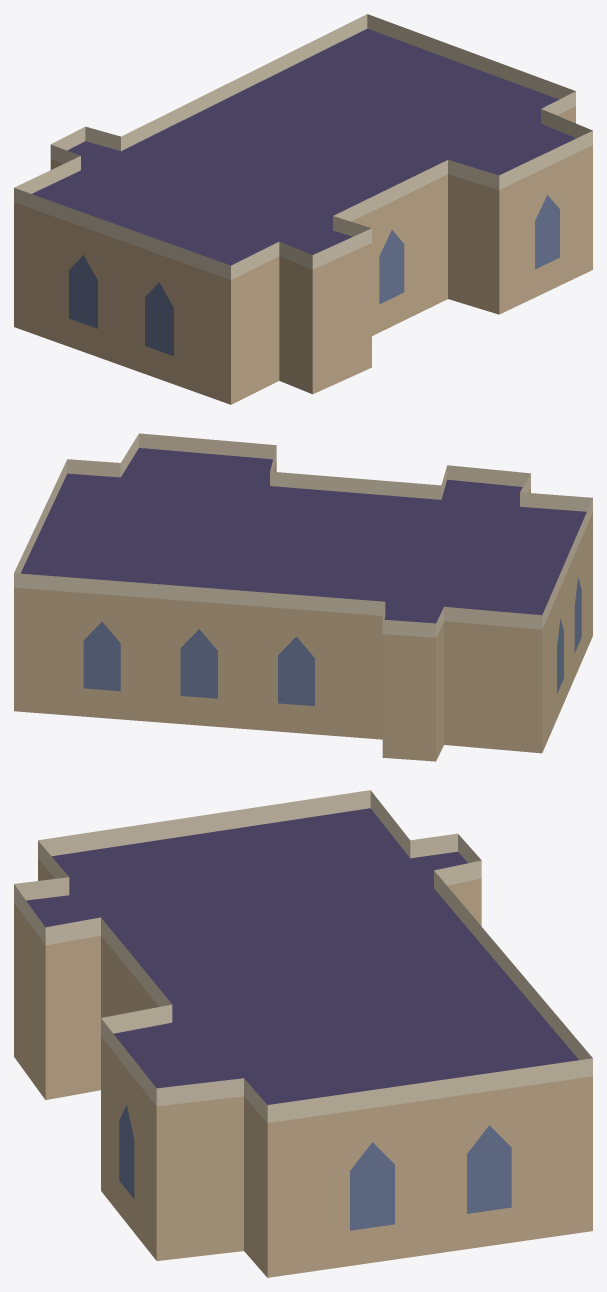
The model's file is b-113-day.glb.
The picture shows the model from 3 angles, top to bottom: view 1: azimuth 30°, elevation 25°; view 2: azimuth 150°, elevation 25°; view 3: azimuth 270°, elevation 25°; orthographic projection. The views are drawn at different scales.
Parts seen in each view (by area): view 1: campus/b-113-day-0; view 2: campus/b-113-day-0; view 3: campus/b-113-day-0.
Boxes of the visible parts, left/top/right/bottom form: campus/b-113-day-0: left=14, top=14, right=592, bottom=404; campus/b-113-day-0: left=14, top=433, right=592, bottom=761; campus/b-113-day-0: left=14, top=790, right=592, bottom=1277.
Bounding box in the file's own units: 20.52 × 5.25 × 15.94.
